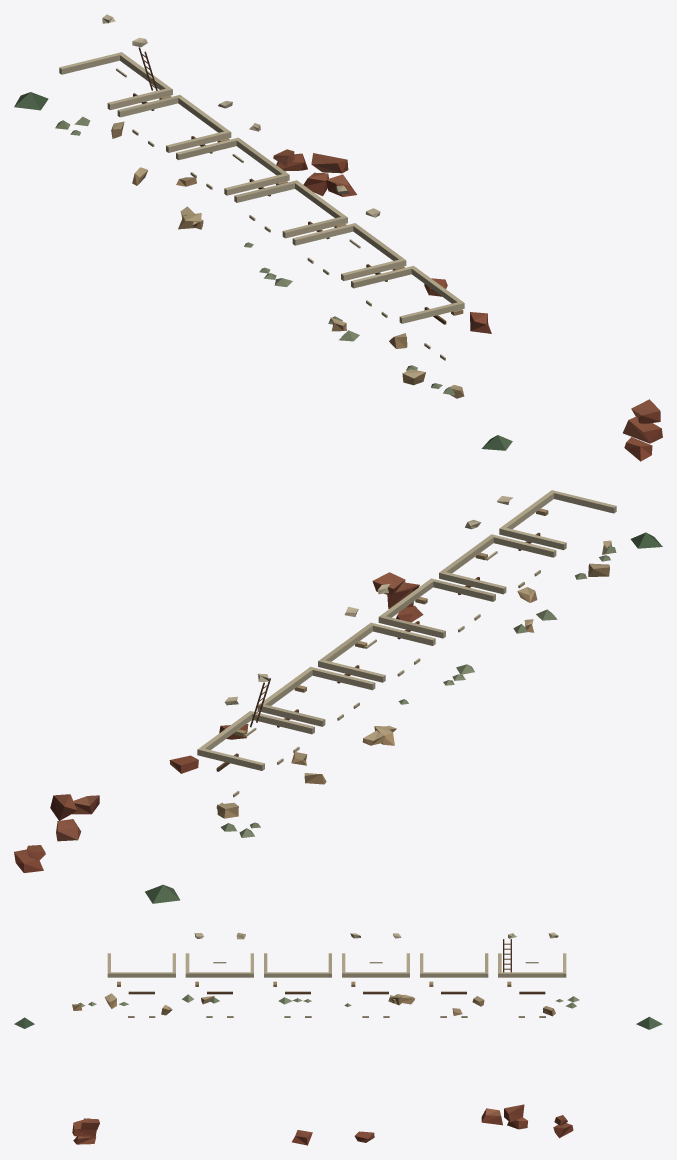
File: cliff_dwelling_row_detail1.glb
3 renders of one model, top to bottom at view 1: azimuth 30°, elevation 25°; view 2: azimuth 150°, elevation 25°; view 3: azimuth 270°, elevation 25°, orthographic. The views are drawn at different scales.
Visible parts, largest first — view 1: cliff_dwelling_row_detail1; view 2: cliff_dwelling_row_detail1; view 3: cliff_dwelling_row_detail1.
Boxes of the visible parts, <box> form: cliff_dwelling_row_detail1: <box>14,14,662,461</box>; cliff_dwelling_row_detail1: <box>14,490,662,903</box>; cliff_dwelling_row_detail1: <box>14,932,662,1145</box>.
Size of the model in its own units: 14.96 by 12.74 by 49.87.
